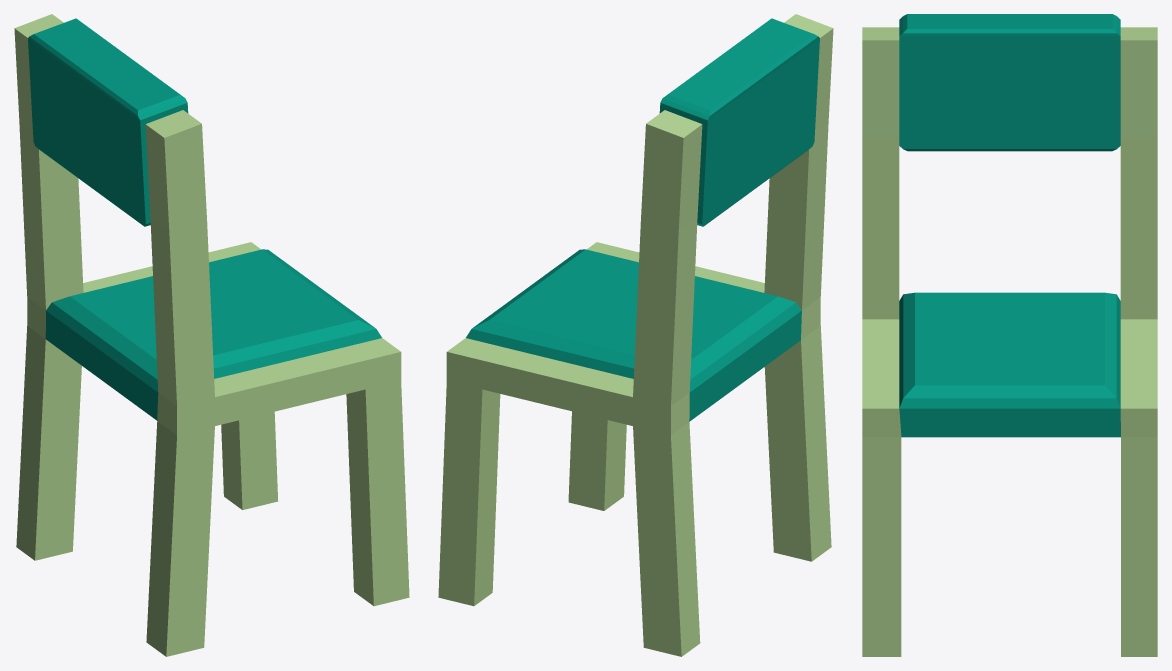
The model's file is Silla Pintada.FBX.
The picture shows the model from 3 angles, left to right: view 1: azimuth 30°, elevation 25°; view 2: azimuth 150°, elevation 25°; view 3: azimuth 270°, elevation 25°; orthographic projection.
Visible parts, largest first — view 1: Box001; view 2: Box001; view 3: Box001.
Part boxes in pixels (left/top/right/bottom): Box001: left=14, top=14, right=409, bottom=656; Box001: left=438, top=14, right=833, bottom=656; Box001: left=862, top=14, right=1157, bottom=656.
Size of the model in its own units: 56.02 by 115 by 57.99.
